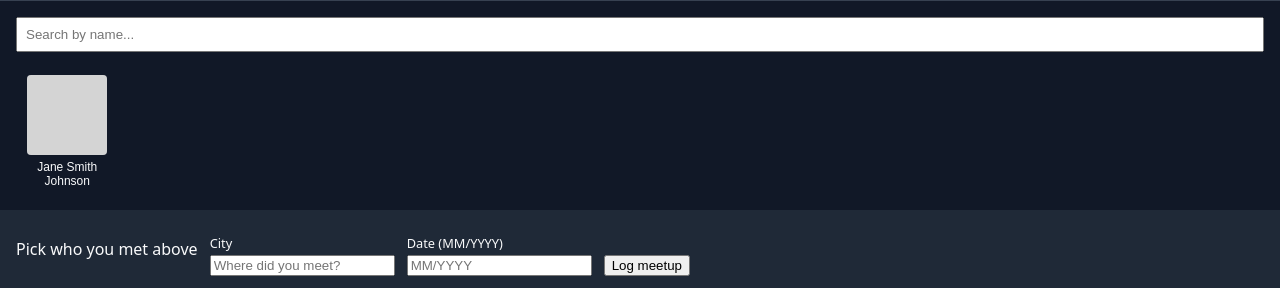
Test case: ClassMeetupBoard › shows who you're currently logging a meetup for
Expected: the text "Pick who you met above" is shown, x1=16 y1=238 x2=198 y2=260
Step 1. Click the button with aria-label "Select Jane Smith Johnson" → coordinates (67, 131), box x1=16 y1=68 x2=118 y2=194
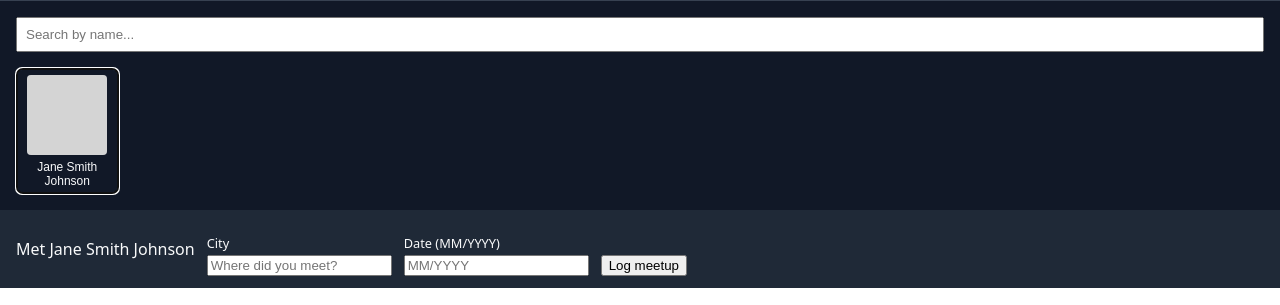
Result: the text "Met Jane Smith Johnson" is shown at x1=16 y1=238 x2=195 y2=260
